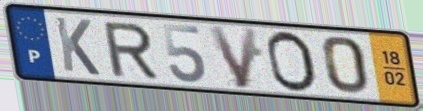0: (319, 35, 373, 97)
5: (160, 22, 208, 85)
K: (51, 14, 103, 78)
O: (264, 28, 320, 94)
R: (100, 20, 161, 80)
V: (205, 24, 262, 91)
